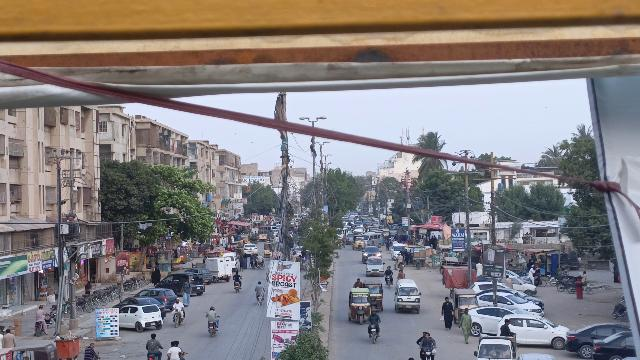Bike: (32, 318, 50, 338), (367, 322, 382, 345), (417, 345, 439, 360), (171, 309, 184, 328), (206, 321, 218, 340), (254, 290, 265, 308), (382, 274, 395, 288), (231, 280, 243, 293)
Car: (497, 311, 569, 349), (562, 317, 627, 358), (466, 304, 522, 337), (477, 290, 545, 317), (117, 303, 163, 333), (590, 329, 633, 360), (156, 271, 206, 297), (114, 296, 169, 319), (135, 286, 179, 309), (365, 256, 385, 277)
Person: (457, 307, 475, 345), (438, 296, 457, 331), (145, 330, 164, 355), (166, 337, 186, 360), (83, 341, 102, 360), (33, 302, 49, 324), (203, 304, 221, 323), (181, 280, 192, 307), (170, 295, 188, 310), (253, 279, 268, 295), (420, 332, 437, 346), (367, 307, 381, 324), (231, 267, 245, 283), (384, 265, 394, 276)
Rickshaw: (450, 287, 481, 326), (346, 288, 375, 325), (363, 278, 388, 314)
Suzuki: (475, 319, 517, 360)
Truck: (200, 257, 234, 281)
Van: (393, 278, 422, 316)
